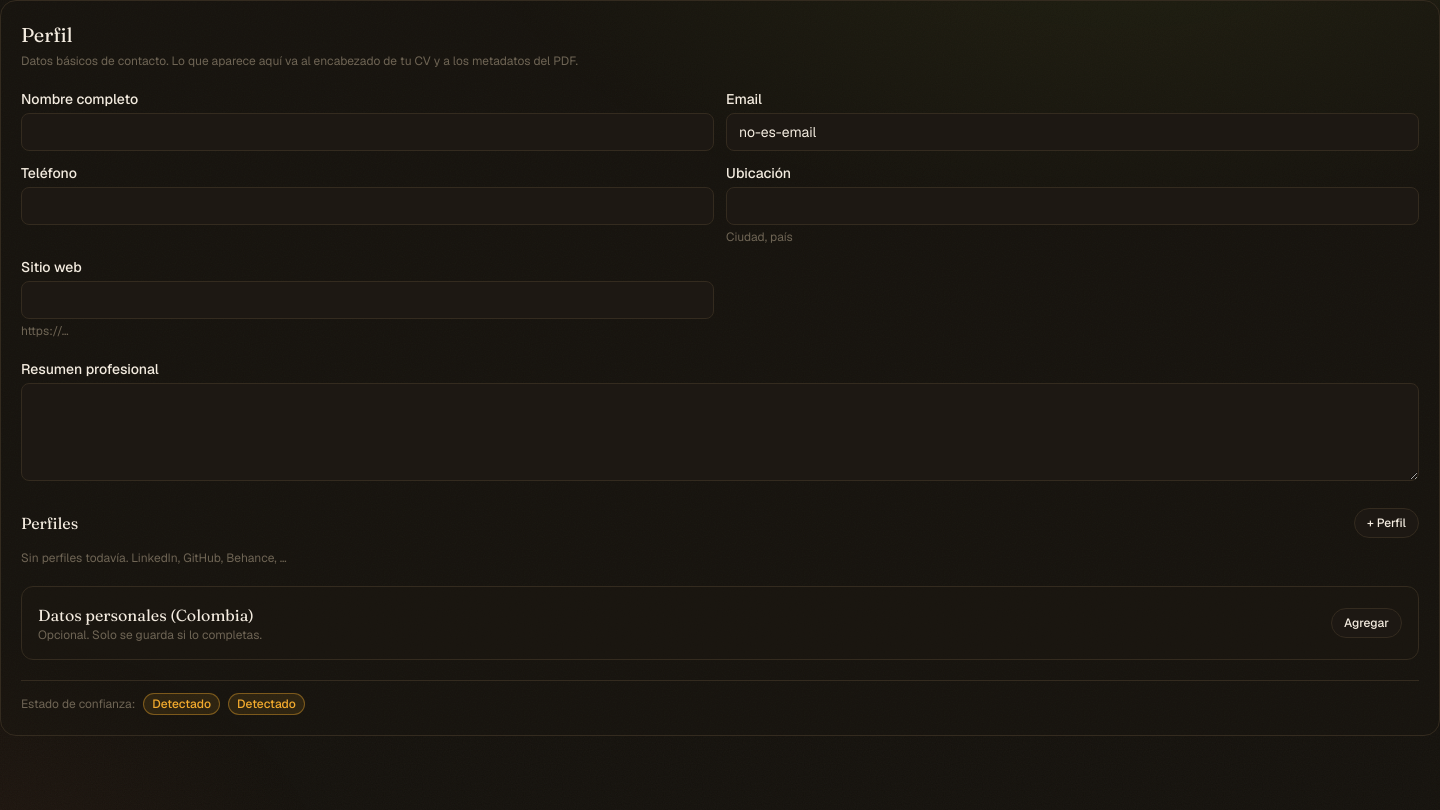
Test: BasicsForm › BasicsForm_Shows_Validation_Error_For_Bad_Email — Zod inline validation
This screenshot has width=1440, height=810.
Note: Dispara blur para que la validación inline corra.
Click the field labelled "Email" at (1072, 132), box [726,113,1419,151]
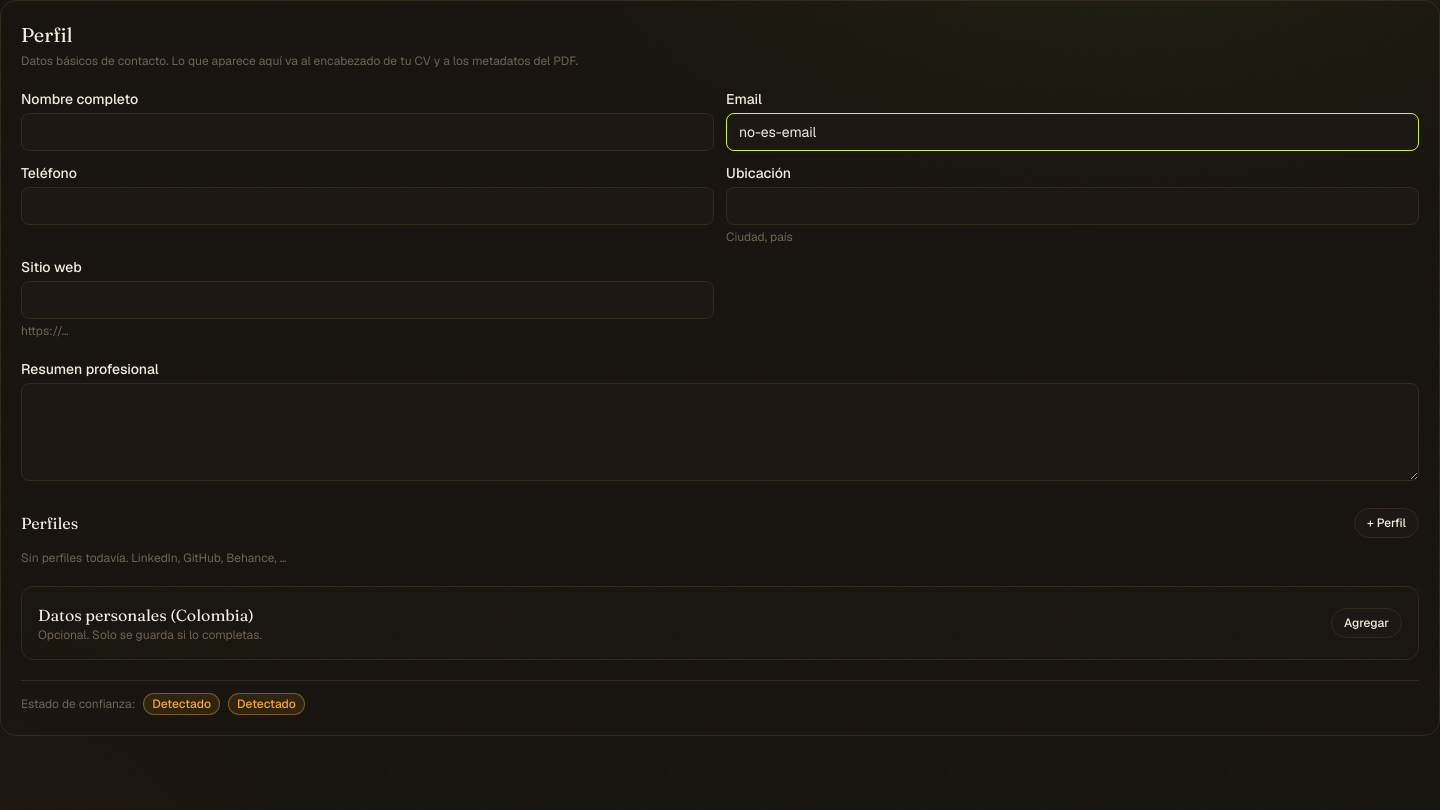
Press Tab
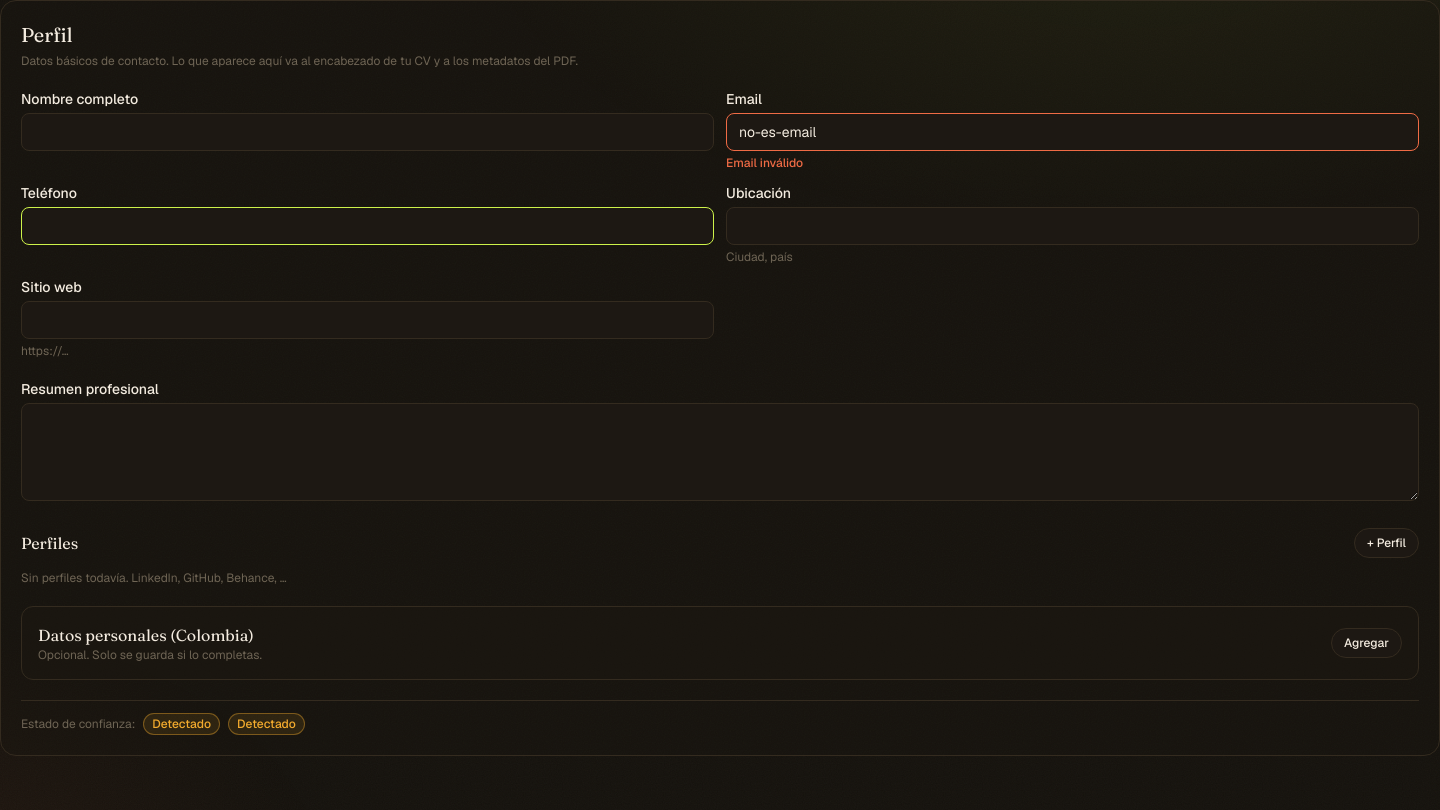
Expected: the message reads "Email inválido", [726,155,803,171]
